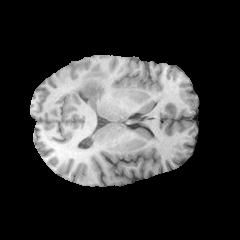glioma: (69, 65, 110, 99)
